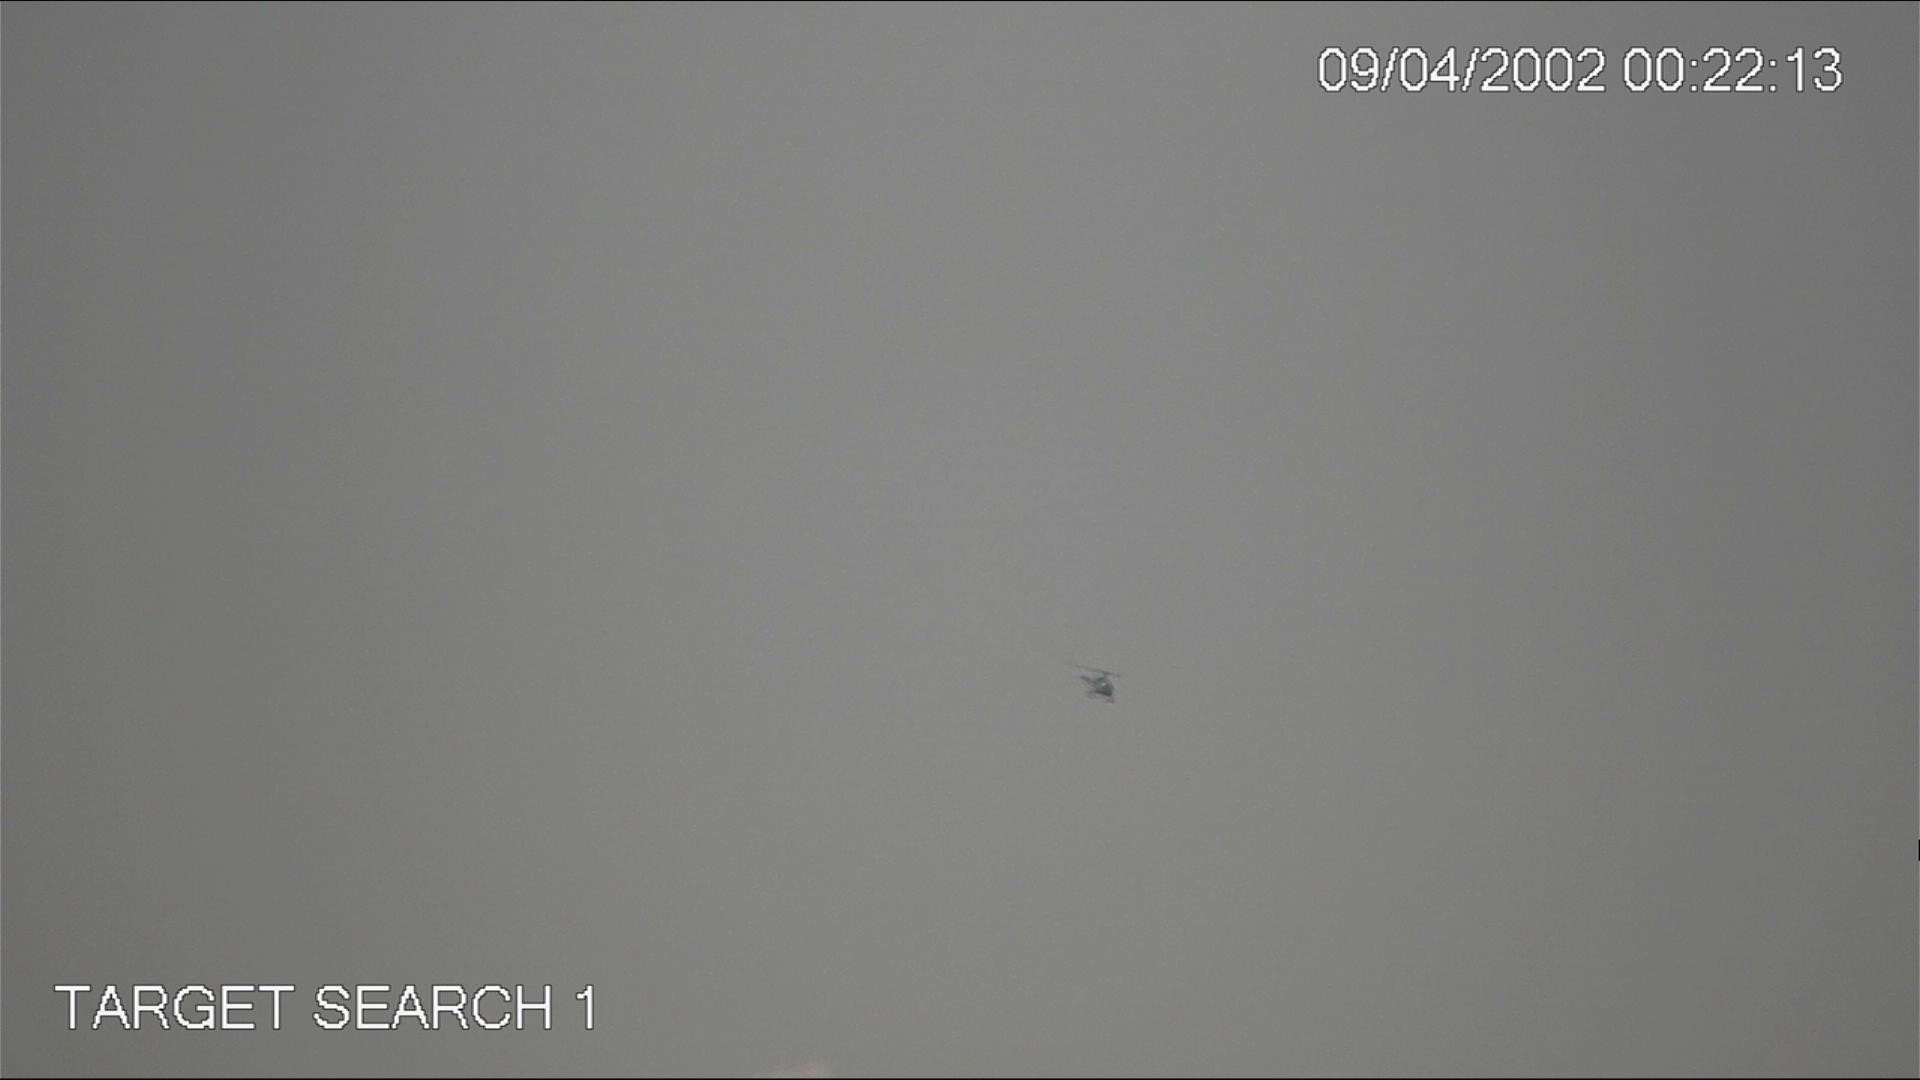SU_30: (1073, 669, 1124, 702)
